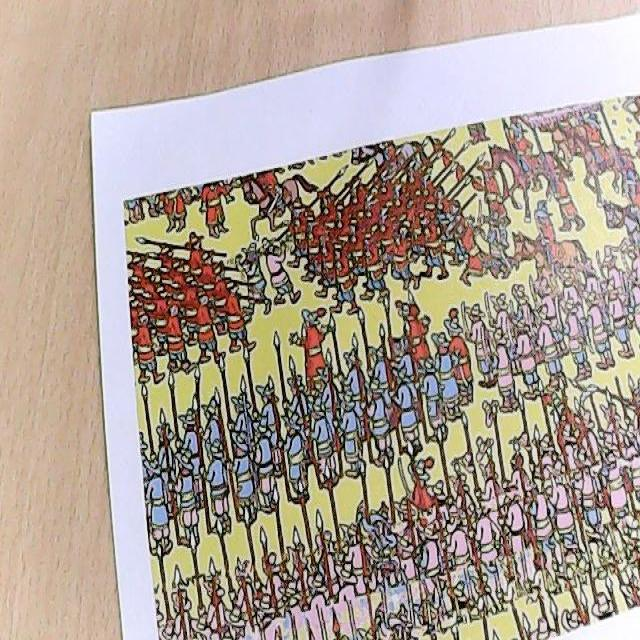waldo: (390, 338, 407, 358)
